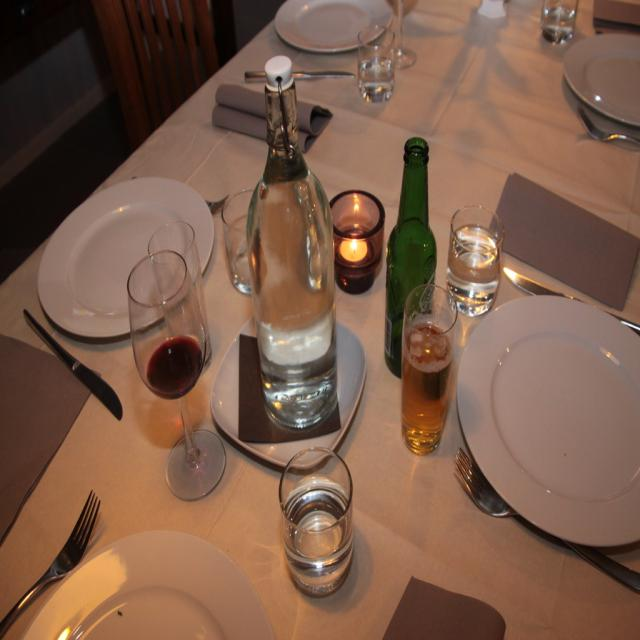non-organic waste: (469, 281, 640, 517), (16, 157, 228, 345), (282, 0, 407, 73)
